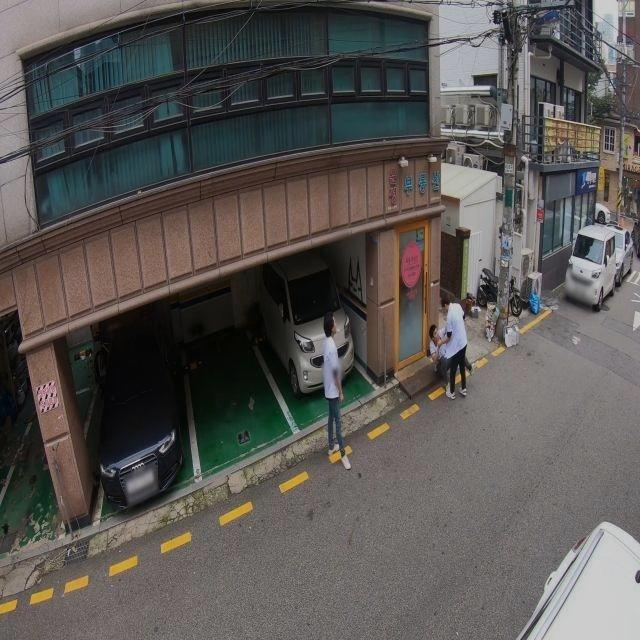fight: (429, 293, 473, 401)
non-fight: (310, 312, 356, 472)
